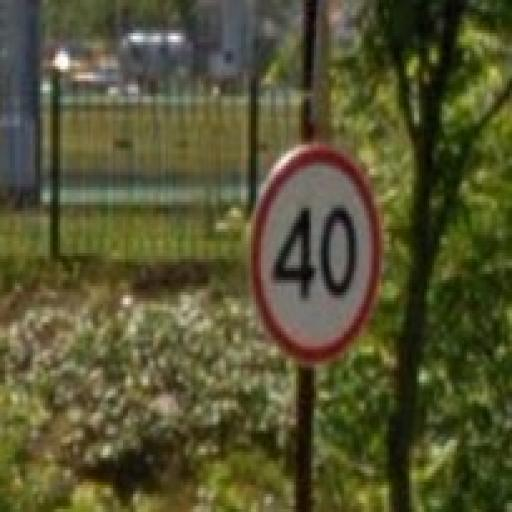traffic_sign: (250, 146, 383, 366)
